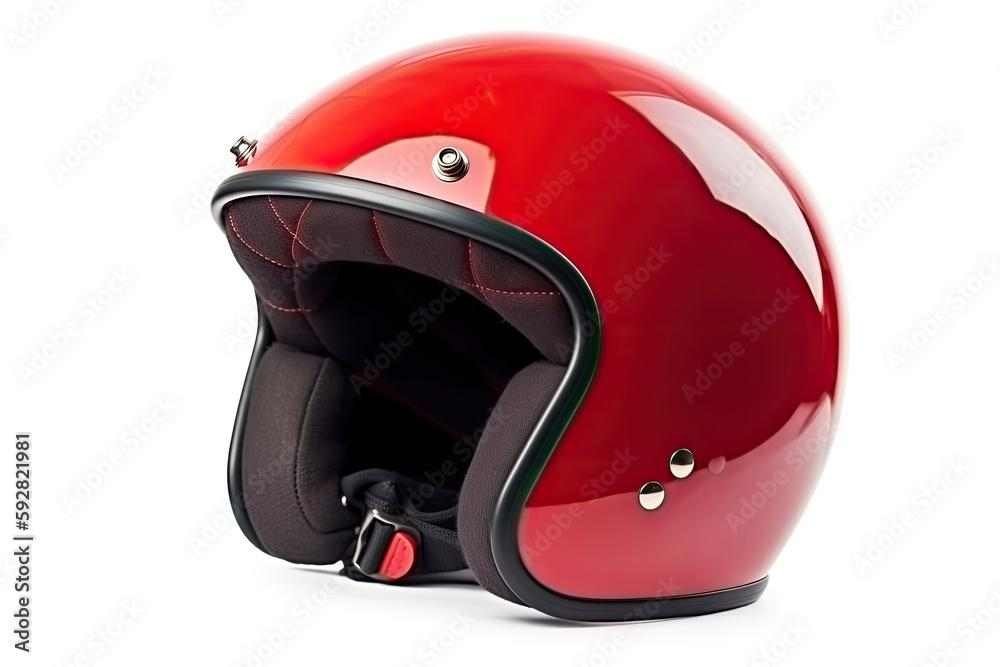helmet: (207, 27, 853, 627)
